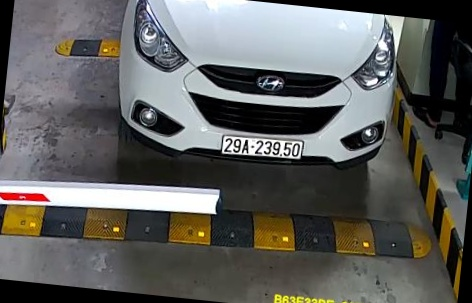plate: (217, 134, 307, 168)
